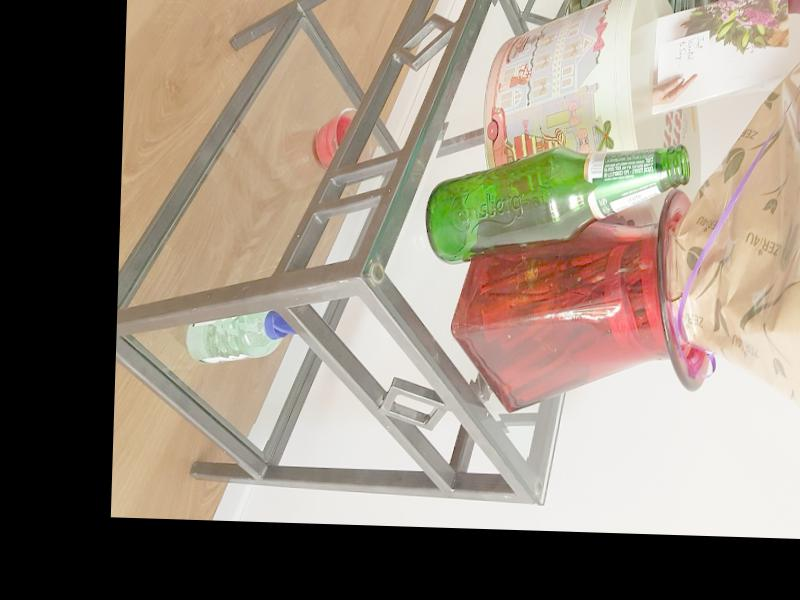Beer: (423, 139, 691, 269)
